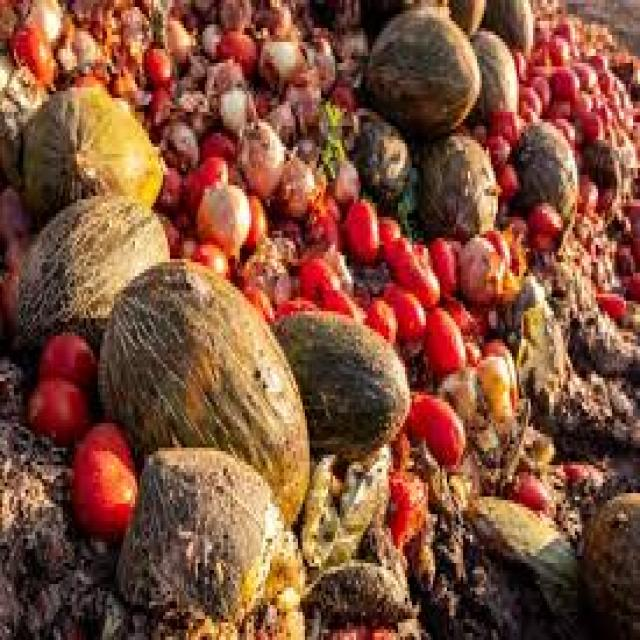organic waste: (93, 252, 305, 524), (110, 437, 302, 637), (11, 192, 168, 350), (19, 80, 165, 214), (270, 308, 405, 451), (365, 3, 477, 122), (300, 448, 391, 570), (470, 496, 582, 594), (577, 486, 638, 637), (295, 552, 412, 630), (412, 129, 493, 238), (68, 416, 132, 539), (510, 116, 572, 220), (351, 102, 405, 200), (522, 297, 564, 406), (233, 98, 279, 192), (193, 175, 247, 255), (0, 66, 37, 175), (417, 300, 468, 378), (35, 325, 93, 392), (410, 385, 463, 458), (228, 252, 286, 315), (21, 381, 86, 437), (386, 234, 436, 301), (7, 14, 54, 84), (456, 234, 503, 304), (384, 468, 426, 546), (256, 28, 307, 91), (484, 328, 519, 419), (274, 144, 318, 214), (379, 276, 424, 340), (528, 189, 570, 252), (177, 150, 221, 210), (477, 350, 510, 423), (291, 252, 333, 308), (214, 24, 256, 77), (340, 196, 374, 259), (300, 189, 338, 245), (509, 419, 552, 468), (326, 0, 363, 56), (72, 24, 110, 77), (484, 0, 531, 42), (0, 182, 33, 241), (310, 101, 338, 168), (582, 133, 626, 175), (158, 119, 202, 161), (296, 245, 340, 287), (358, 290, 398, 336), (505, 472, 552, 511), (426, 231, 458, 287), (305, 21, 333, 84), (114, 0, 149, 49), (501, 210, 528, 273), (319, 154, 356, 199), (154, 168, 186, 220), (510, 273, 542, 322), (175, 52, 214, 91), (214, 84, 247, 129), (205, 59, 242, 98), (182, 84, 216, 126), (195, 126, 232, 164), (545, 63, 577, 105), (440, 284, 479, 318), (444, 0, 486, 31), (246, 0, 288, 31), (140, 42, 170, 84), (333, 28, 363, 70), (545, 108, 577, 147), (321, 276, 352, 315), (594, 287, 628, 322), (484, 102, 519, 136), (258, 94, 291, 130), (561, 458, 598, 490), (158, 14, 189, 52), (93, 10, 123, 49), (0, 231, 33, 266), (286, 0, 319, 35), (161, 213, 186, 259), (21, 0, 58, 31), (517, 63, 547, 101), (240, 189, 263, 238), (572, 21, 608, 52), (65, 0, 109, 24), (0, 0, 21, 49), (191, 241, 223, 273), (142, 88, 172, 122), (372, 210, 396, 252), (514, 77, 538, 119), (400, 161, 417, 220), (258, 227, 289, 259), (600, 98, 631, 129), (107, 60, 135, 94), (216, 0, 246, 31), (589, 182, 619, 213), (570, 105, 603, 133), (484, 220, 505, 262), (461, 332, 484, 367), (0, 266, 12, 332), (54, 35, 79, 66), (616, 189, 638, 224), (549, 10, 573, 42), (333, 66, 354, 102), (496, 158, 514, 200), (286, 133, 317, 157), (484, 126, 505, 161), (286, 91, 312, 119), (167, 0, 197, 24), (614, 234, 633, 270), (616, 112, 638, 143), (616, 266, 638, 297), (177, 56, 205, 80), (616, 91, 638, 119), (577, 178, 598, 206), (538, 94, 570, 112), (572, 56, 596, 80), (196, 21, 214, 52), (626, 298, 638, 340), (547, 32, 565, 59), (526, 42, 549, 63), (286, 294, 314, 311), (626, 227, 638, 266), (572, 84, 594, 105), (196, 0, 214, 21), (589, 46, 607, 66), (596, 70, 612, 91), (530, 0, 560, 10), (605, 84, 619, 105), (177, 238, 193, 255), (510, 46, 519, 74)
